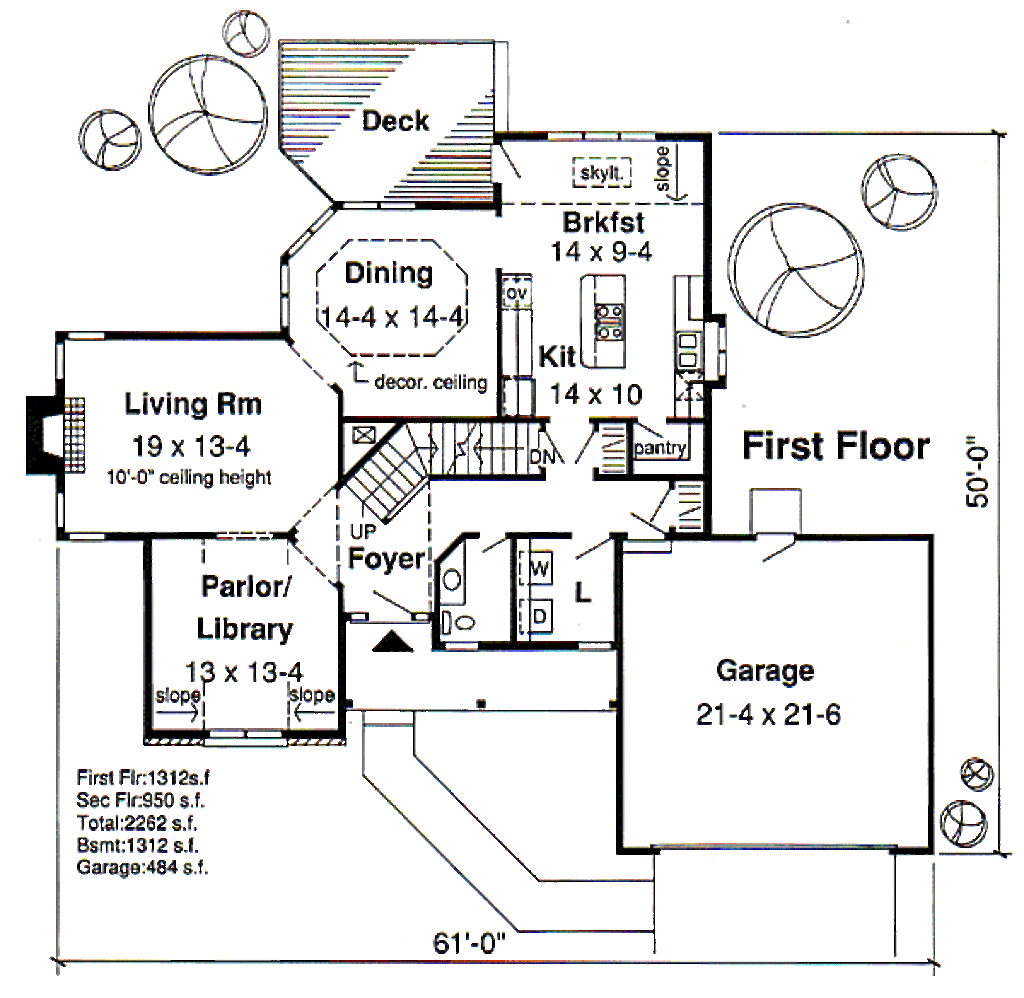door: (626, 509, 683, 564), (750, 525, 800, 564), (564, 530, 622, 561)
kitchen_bar: (580, 264, 633, 380)
large_sink: (434, 606, 492, 647)
small_sink: (430, 551, 478, 597)
stairs: (344, 414, 550, 520)
twin_sink: (670, 325, 719, 376)
window: (281, 187, 433, 248), (47, 325, 141, 397), (544, 120, 661, 153), (61, 522, 112, 542)
